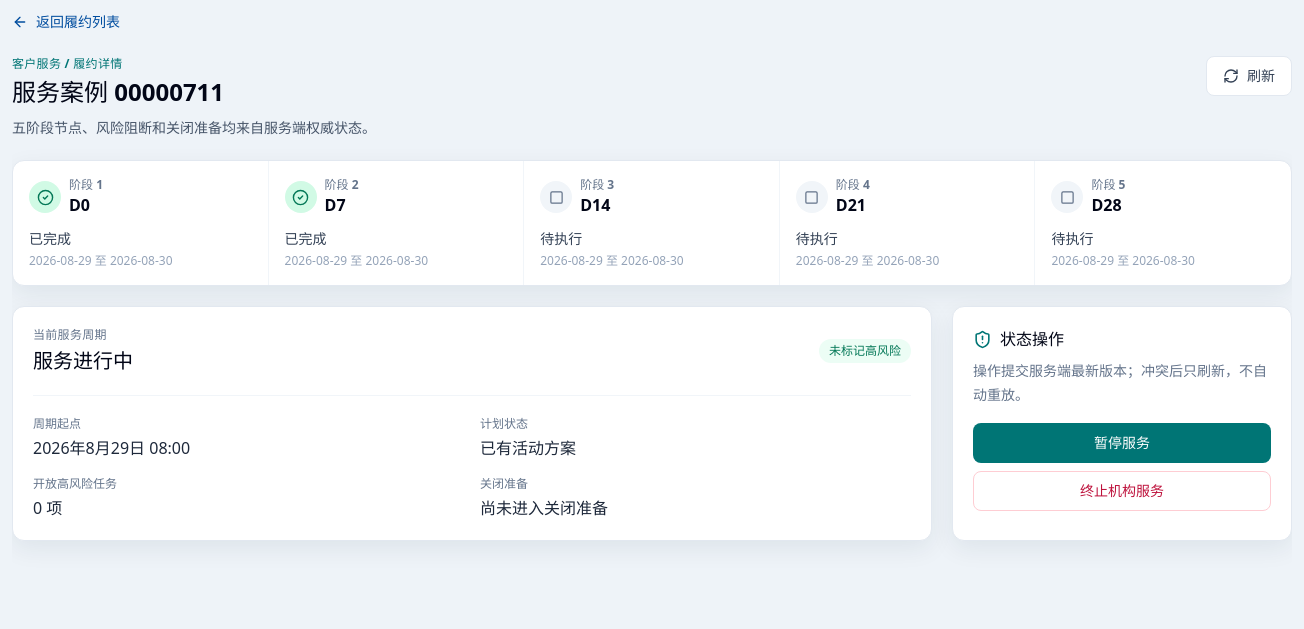
Scenario: 一期切片7机构服务履约与转机构 › 409后刷新权威详情且不自动重放暂停操作
The image size is (1304, 629).
Click the button "暂停服务" at {"x": 1122, "y": 443}, box [973,423,1271,463]
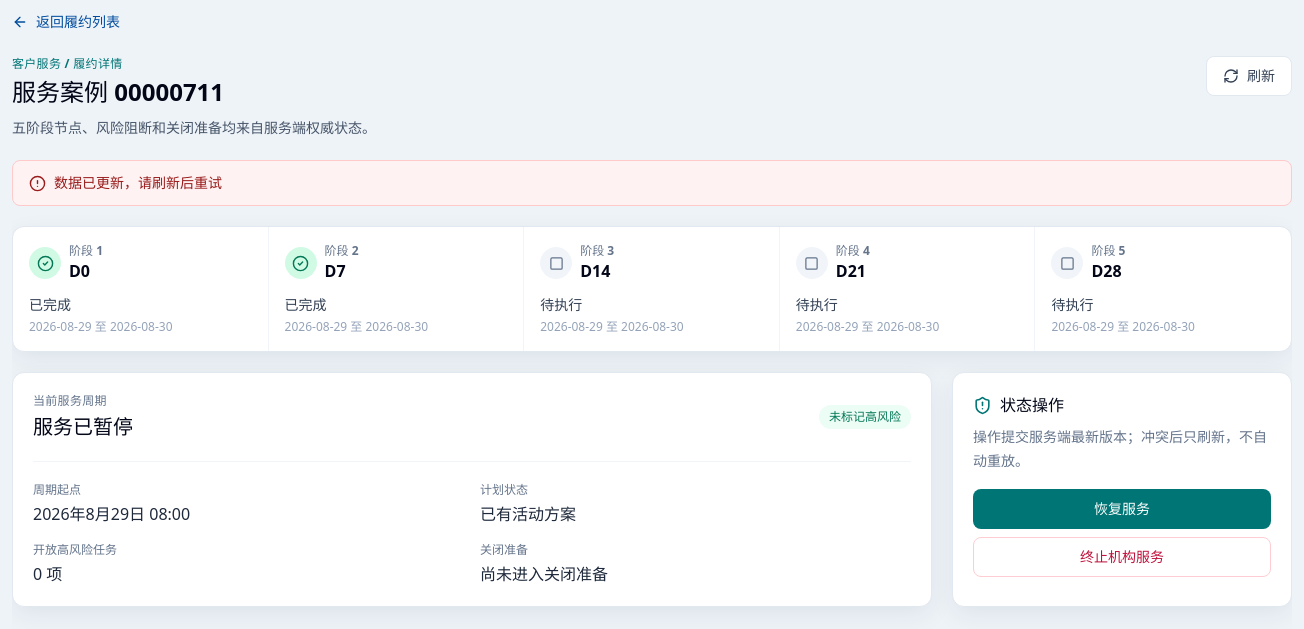
Expected: the heading "服务已暂停" is shown, [33,413,133,441]
Expected: the text "数据已更新，请刷新后重试" is shown, [54,173,222,193]
